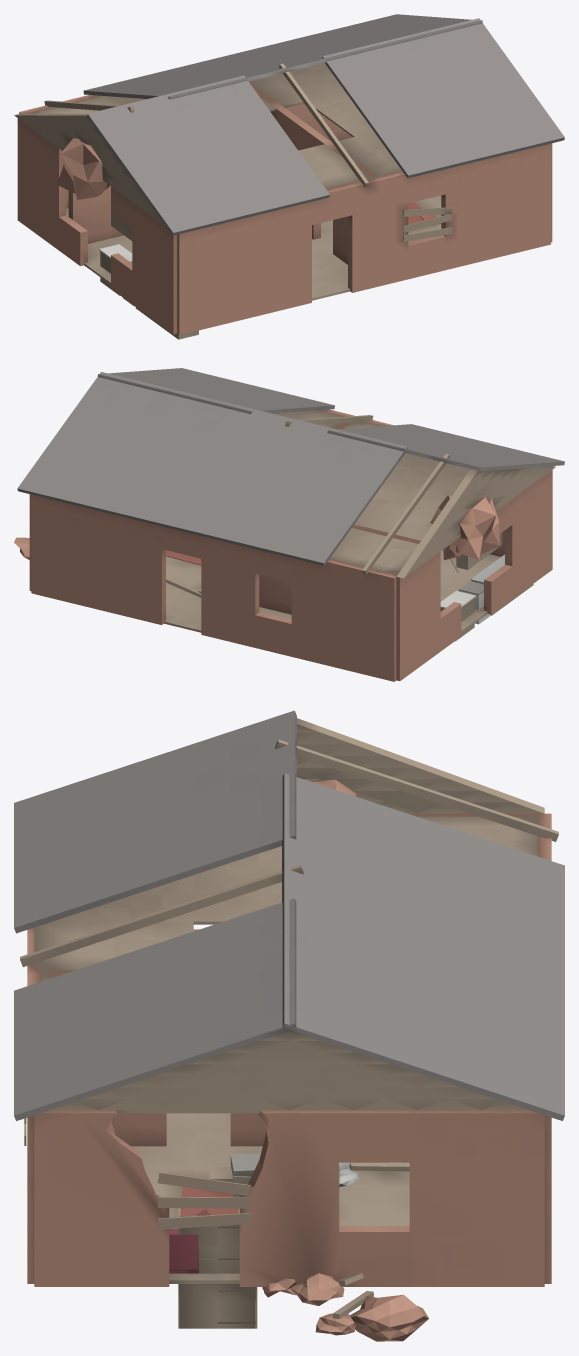
Rendered from casa_r2.glb.
3 renders of one model, top to bottom at view 1: azimuth 30°, elevation 25°; view 2: azimuth 150°, elevation 25°; view 3: azimuth 270°, elevation 25°, orthographic. The views are drawn at different scales.
Visible parts, largest first — view 1: telhado, ext0_0, ext0_3, forro, telhado_oitao0, chao, int_0, int_1, telhado_vigas, ext0_0_tabua_73, ext0_2, pia_frente2; view 2: telhado, ext0_2, ext0_3, forro, telhado_oitao0, chao, telhado_vigas, int_1, pia_frente2, fogao_frente1, armario_frente, balcao_frente0; view 3: telhado, ext0_1, telhado_oitao2, forro, chao, telhado_oitao0, telhado_vigas, estante_sala1, entulho_fora, ext0_1_tabua_26, int_0, ext0_2 (+4 smaller).
Boxes of the visible parts, x1,y1,x2,y2 form: telhado: (83,14,564,235); ext0_0: (177,143,550,334); ext0_3: (17,112,177,334); forro: (30,63,401,189); telhado_oitao0: (14,113,165,225); chao: (66,195,441,300); int_0: (249,81,376,264); int_1: (68,96,260,243); telhado_vigas: (44,63,368,187); ext0_0_tabua_73: (402,207,452,241); ext0_2: (19,95,352,208); pia_frente2: (99,244,132,295); telhado: (17,368,564,565); ext0_2: (31,494,397,681); ext0_3: (394,470,552,680); forro: (273,410,469,575); telhado_oitao0: (396,466,555,578); chao: (164,550,500,632); telhado_vigas: (285,415,449,574); int_1: (259,524,420,614); pia_frente2: (440,590,475,641); fogao_frente1: (459,581,490,624); armario_frente: (450,532,502,572); balcao_frente0: (470,554,533,615); telhado: (14,710,564,1120); ext0_1: (34,1110,544,1286); telhado_oitao2: (50,1031,528,1110); forro: (34,813,541,1113); chao: (131,1113,409,1283); telhado_oitao0: (297,718,544,813); telhado_vigas: (20,739,558,966); estante_sala1: (178,1208,257,1328); entulho_fora: (262,1273,428,1341); ext0_1_tabua_26: (157,1172,250,1229); int_0: (48,970,267,1146); ext0_2: (537,813,551,1283).
Size of what is drawn, in the model's own units: 13.85 by 5.56 by 8.63.
